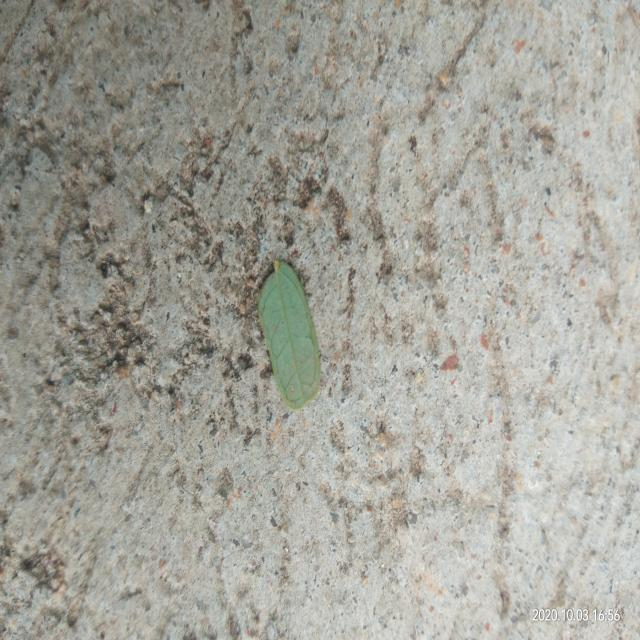tamarind: (258, 262, 321, 410)
